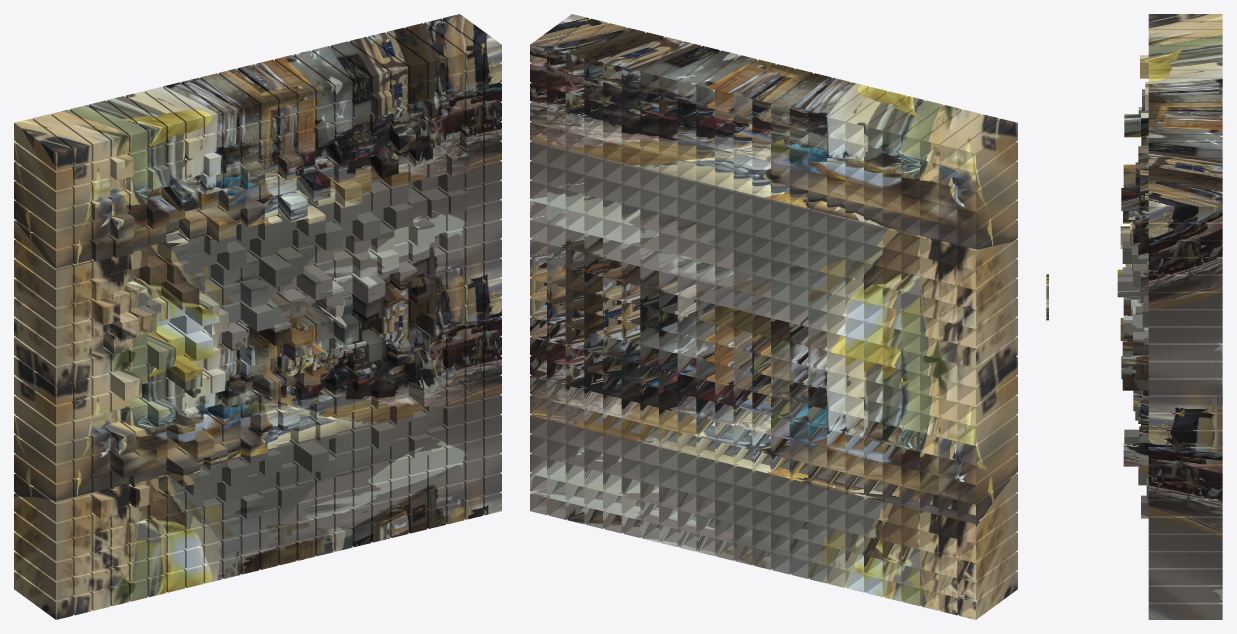
Rendered from updateViz11_front.glb.
3 views of the same model, side by side, from view 1: azimuth 30°, elevation 25°; view 2: azimuth 150°, elevation 25°; view 3: azimuth 270°, elevation 25° (orthographic). The views are drawn at different scales.
Visible parts, largest first — view 1: objects; view 2: objects; view 3: objects.
Boxes of the visible parts, left/top/right/bottom form: objects: left=14, top=14, right=501, bottom=619; objects: left=530, top=14, right=1017, bottom=619; objects: left=1046, top=14, right=1222, bottom=619.
Bounding box in the file's own units: 170 × 170 × 65.74.
1 material, 1 textured.
